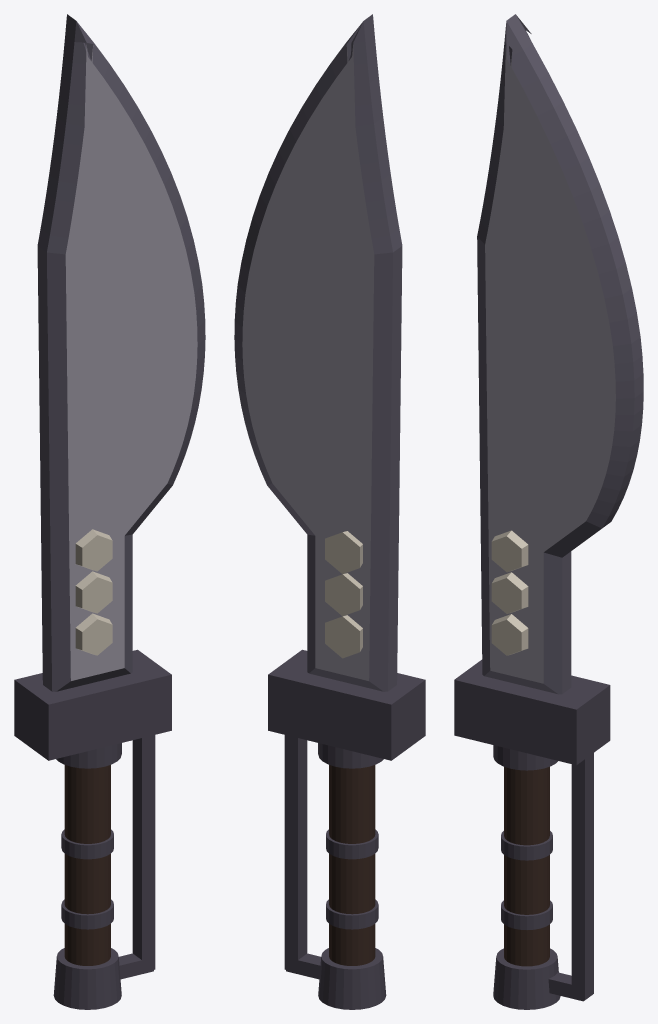
File: DualBlade.ready.glb
3 views of the same model, side by side, from view 1: azimuth 30°, elevation 25°; view 2: azimuth 150°, elevation 25°; view 3: azimuth 330°, elevation 25° (orthographic).
Visible parts, largest first — view 1: DualBlade; view 2: DualBlade; view 3: DualBlade.
Boxes of the visible parts, x1,y1,x2,y2 form: DualBlade: (14,14,205,1009); DualBlade: (234,14,425,1009); DualBlade: (454,14,643,1009).
Bounding box in the file's own units: 0.6319 × 3.5 × 0.22.
1 material, 1 textured.
